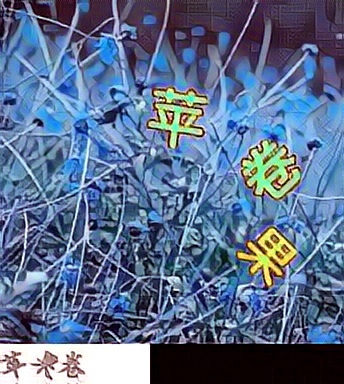B9FB: (234, 224, 296, 288)
BEED: (240, 137, 302, 201)
C6BB: (148, 82, 210, 146)
